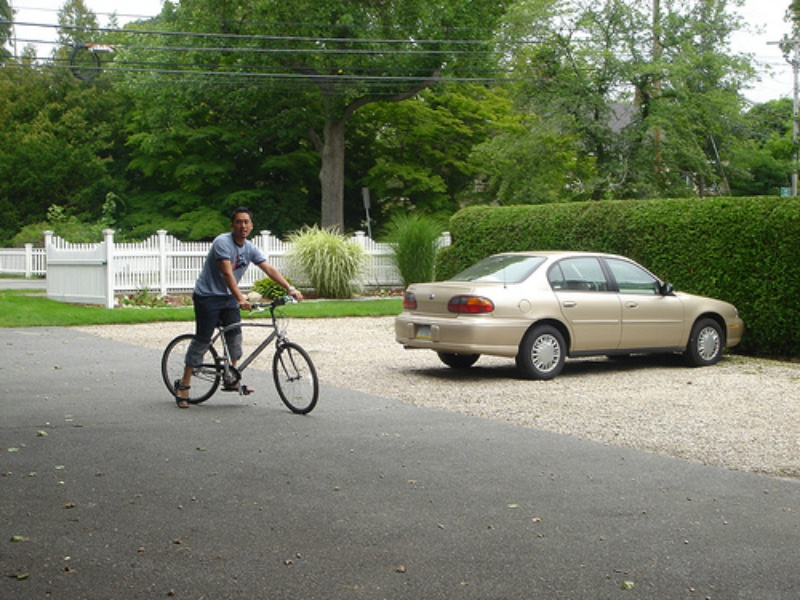car: (395, 249, 743, 381)
person: (174, 209, 302, 409)
